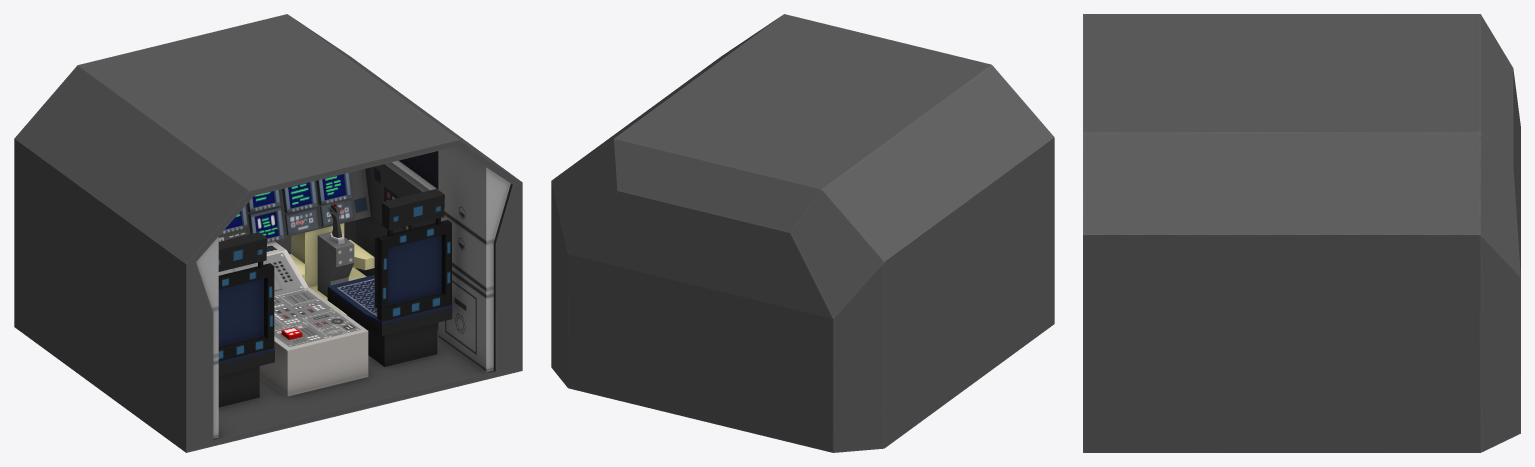
File: a73d9209-7bf8-45d0-aeb9-8c9e5e5fe987.glb
The picture shows the model from 3 angles, left to right: view 1: azimuth 30°, elevation 25°; view 2: azimuth 150°, elevation 25°; view 3: azimuth 270°, elevation 25°; orthographic projection. The views are drawn at different scales.
Visible parts, largest first — view 1: CockpitControlCenter_Mesh; view 2: CockpitControlCenter_Mesh; view 3: CockpitControlCenter_Mesh.
Part boxes in pixels (<box>): CockpitControlCenter_Mesh: <box>14,14,522,452</box>; CockpitControlCenter_Mesh: <box>551,14,1054,452</box>; CockpitControlCenter_Mesh: <box>1083,14,1520,452</box>.
Size of the model in its own units: 11.93 by 8.35 by 11.63.
Materials: 1 (1 with a texture image).
